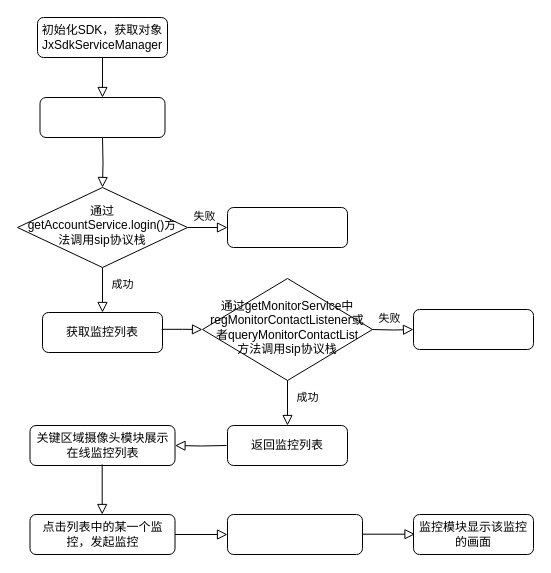
Image size: 551x573. Some labels were removed from this diagram. Here are the shapes that lost their labels. From the top down, the centre of each, then its label:
(102,117): 登录webrtc账号
(287,227): 提示登录失败
(473,329): 返回空数组
(294,534): 通过getMonitorService中monitorMake 方法调用sip协议栈
